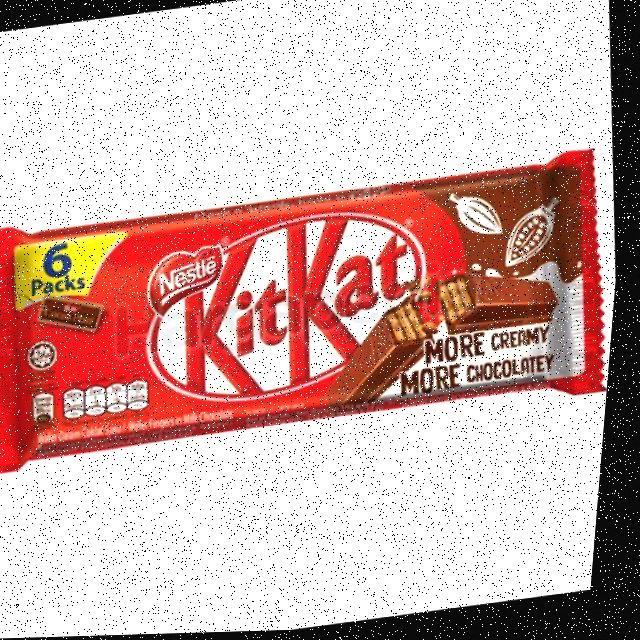kitkat_chocolate: (20, 153, 593, 470)
